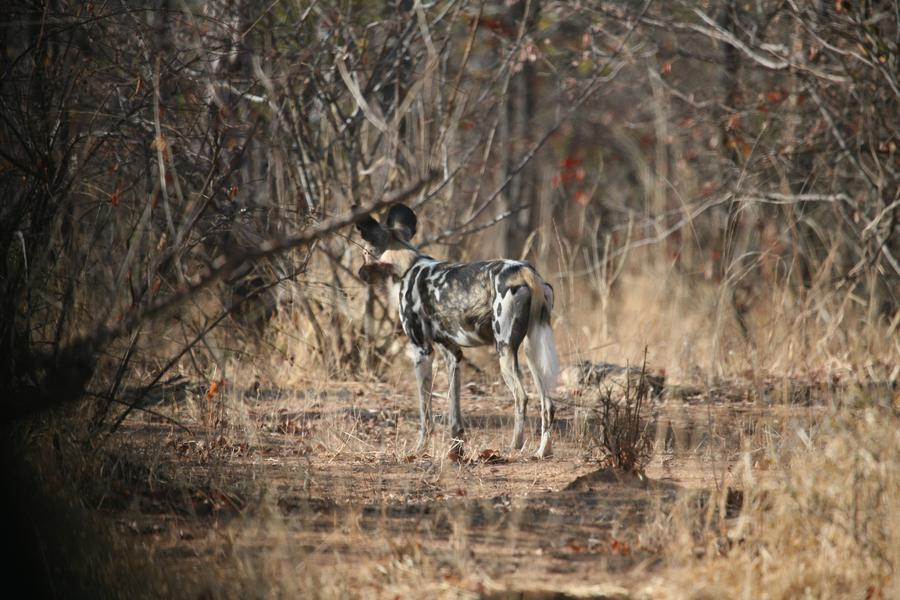wilddog: (350, 197, 543, 403)
